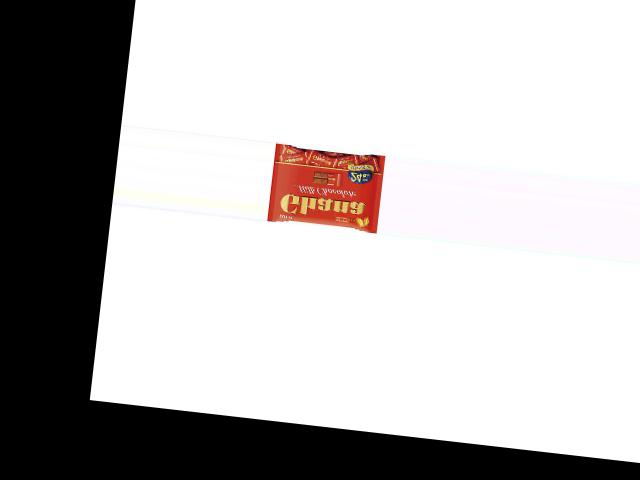chocolate: (269, 140, 387, 231)
